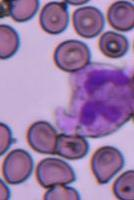E: (68, 62, 133, 136)
